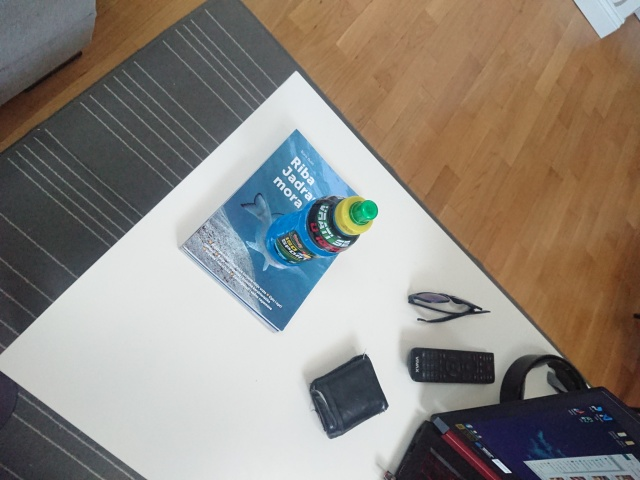Vindi Iso Sport Forest Strawberries 500mL: (263, 192, 379, 267)
